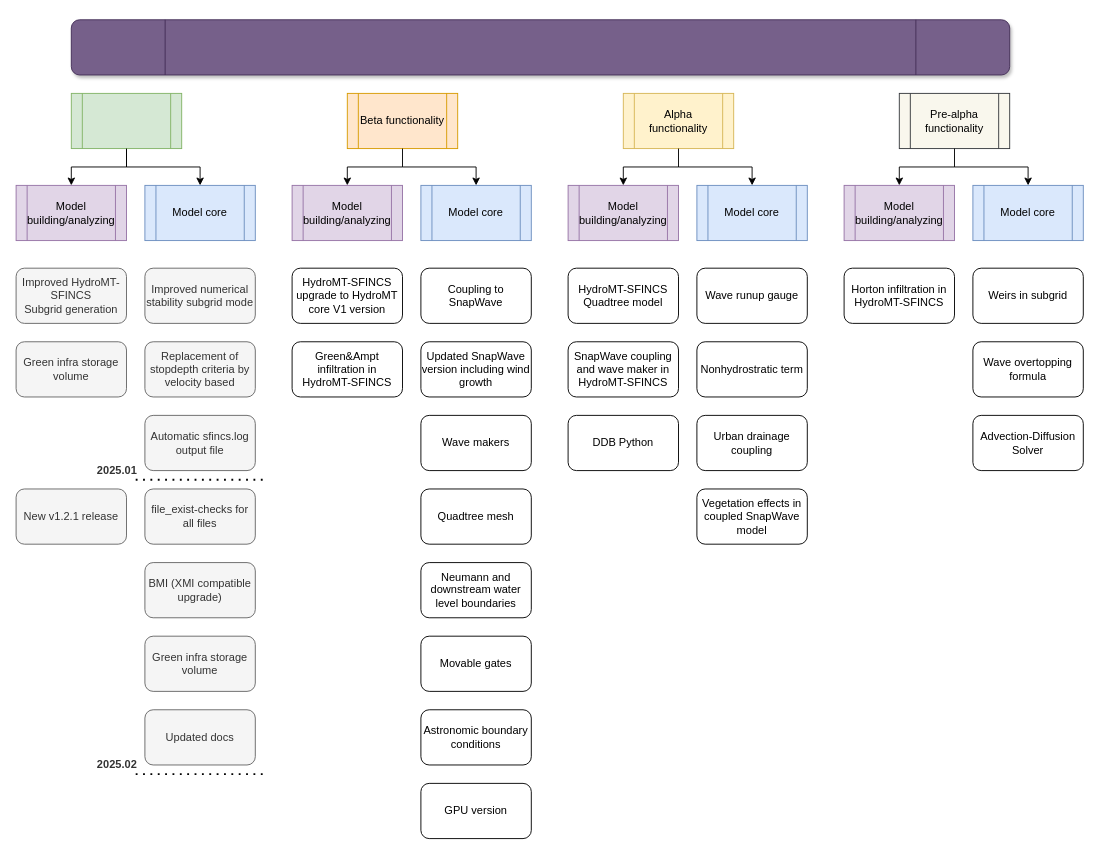
The diagram is 1099 pixels wide and 855 high, and some of its shapes have lost their labels. The shapes that lost their labels are listed below. From the top down, each one's centre as x and y in pixels, then its label:
At (x=541, y=48): "Development status SFINCS & HydroMT-SFINCS 2025.02 version".
At (x=126, y=120): "New functionality".
